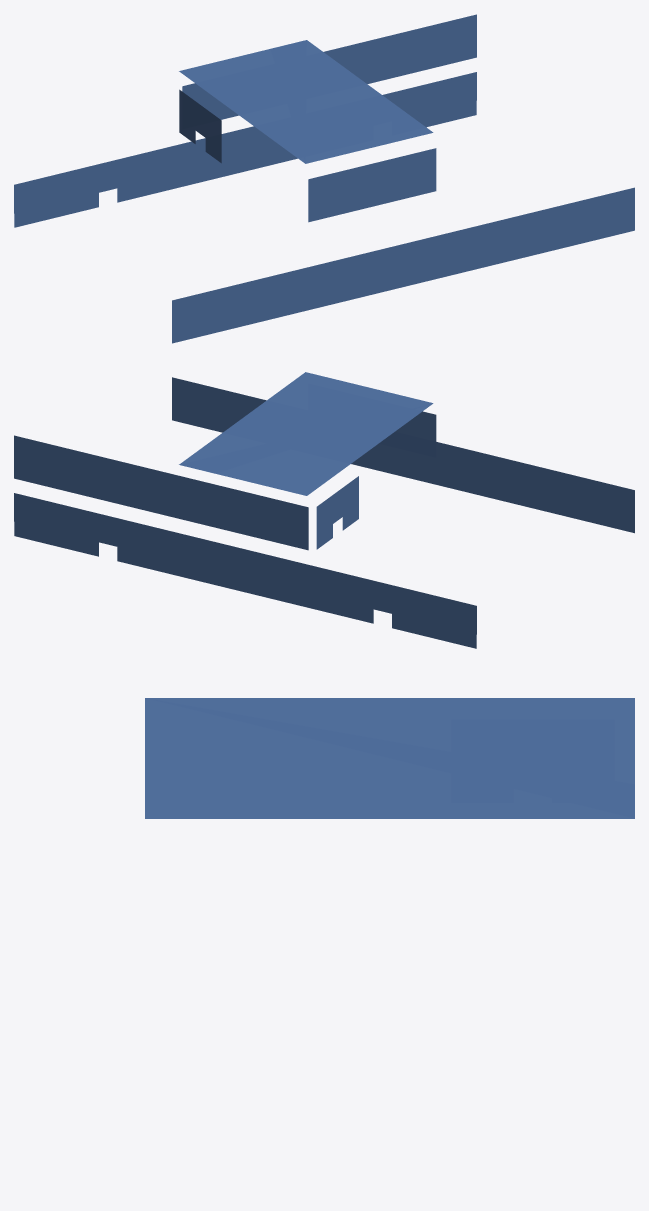
Rendered from GlassBuilding.fbx.
3 views of the same model, one above another, from view 1: azimuth 30°, elevation 25°; view 2: azimuth 150°, elevation 25°; view 3: azimuth 270°, elevation 25° (orthographic). The views are drawn at different scales.
Parts seen in each view (by area): view 1: GlassBuilding; view 2: GlassBuilding; view 3: GlassBuilding.
Part boxes in pixels (x1,y1,x2,y2): GlassBuilding: [14, 14, 634, 343]; GlassBuilding: [14, 372, 634, 648]; GlassBuilding: [145, 698, 634, 818].
Bounding box in the file's own units: 101 × 23.8 × 60.82.
